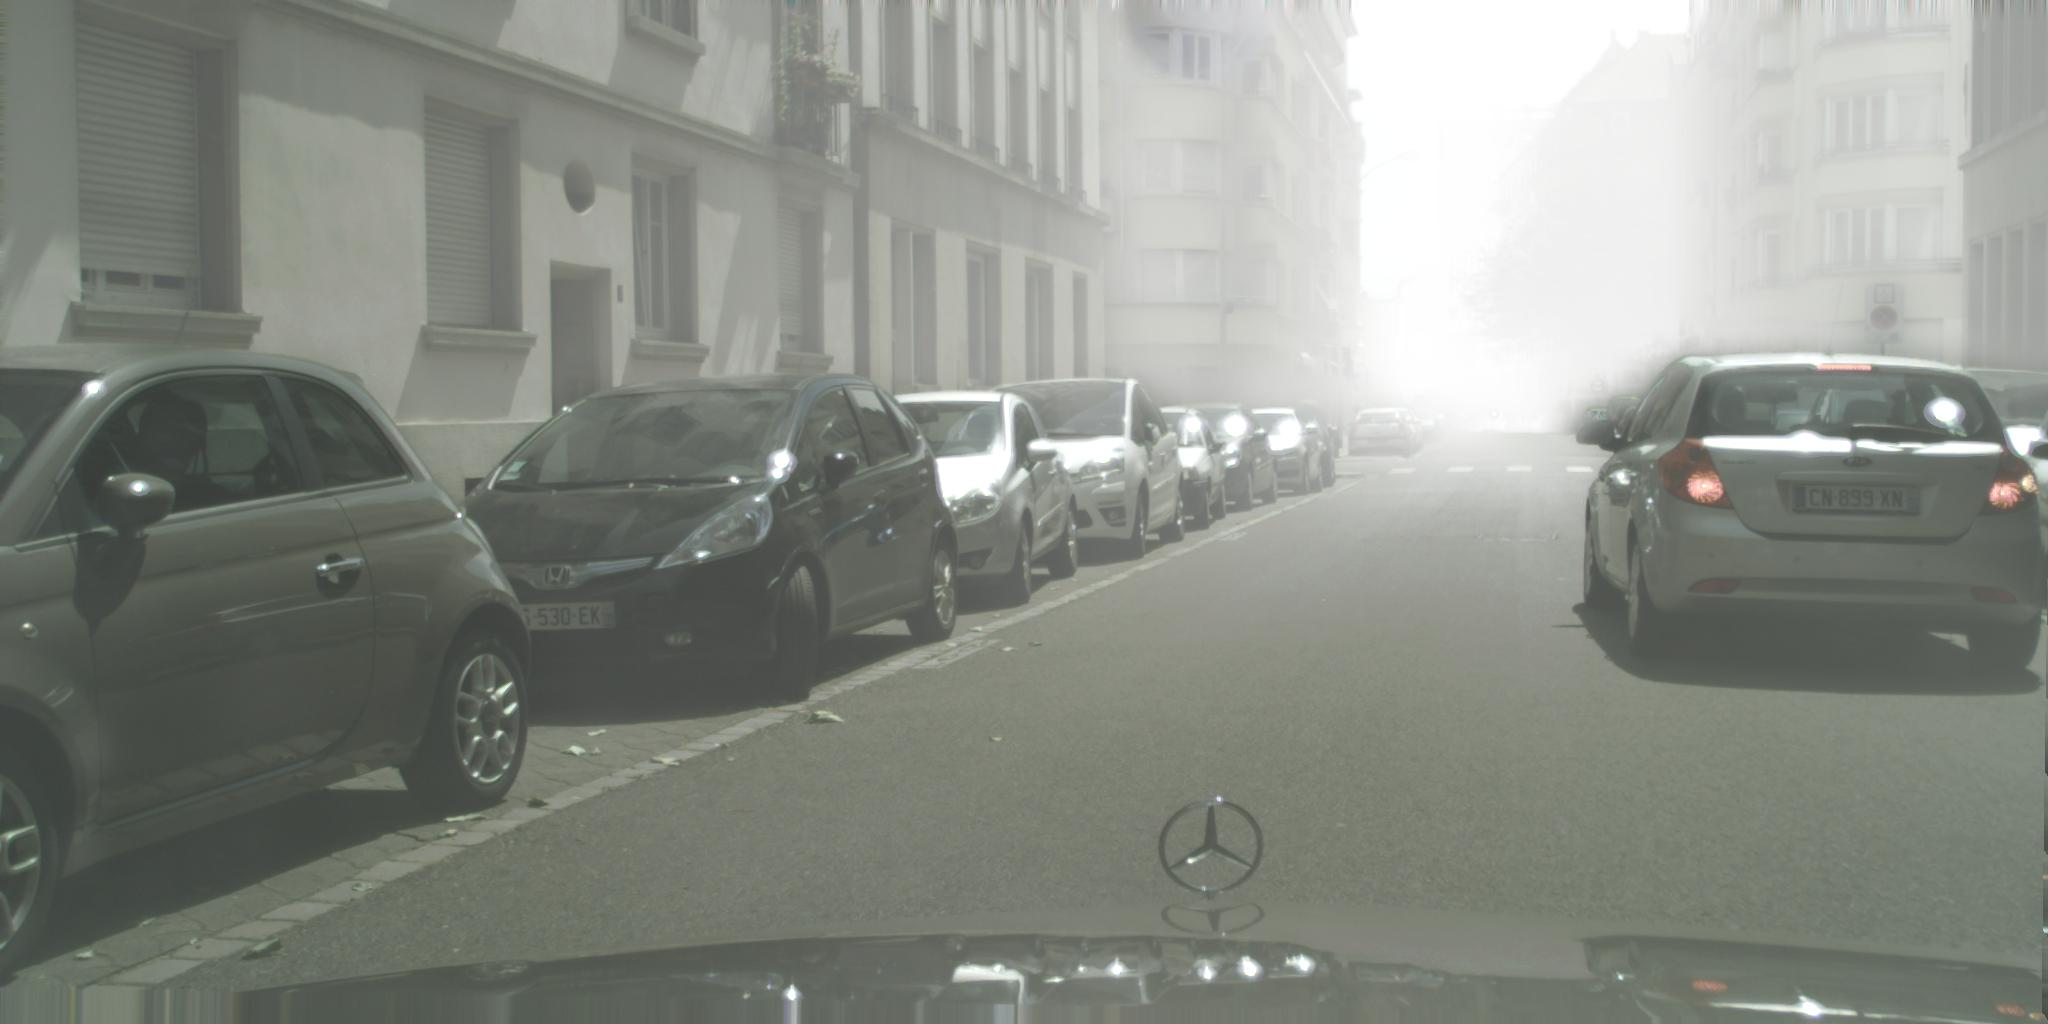car: (1, 340, 536, 978), (1576, 276, 2048, 673), (401, 374, 963, 703), (780, 391, 1079, 605), (973, 377, 1186, 560), (1896, 366, 2048, 488), (1138, 404, 1279, 513), (1981, 409, 2048, 613), (1123, 406, 1229, 526), (1224, 408, 1324, 496), (1262, 408, 1341, 488), (1608, 406, 1695, 447), (1347, 409, 1415, 458), (1369, 408, 1422, 455), (1369, 409, 1441, 441), (1616, 406, 1681, 436), (1401, 402, 1452, 439), (1384, 409, 1425, 453), (1600, 396, 1651, 428), (1576, 408, 1614, 436), (1472, 409, 1507, 432), (1586, 410, 1610, 438), (1464, 409, 1490, 432)
